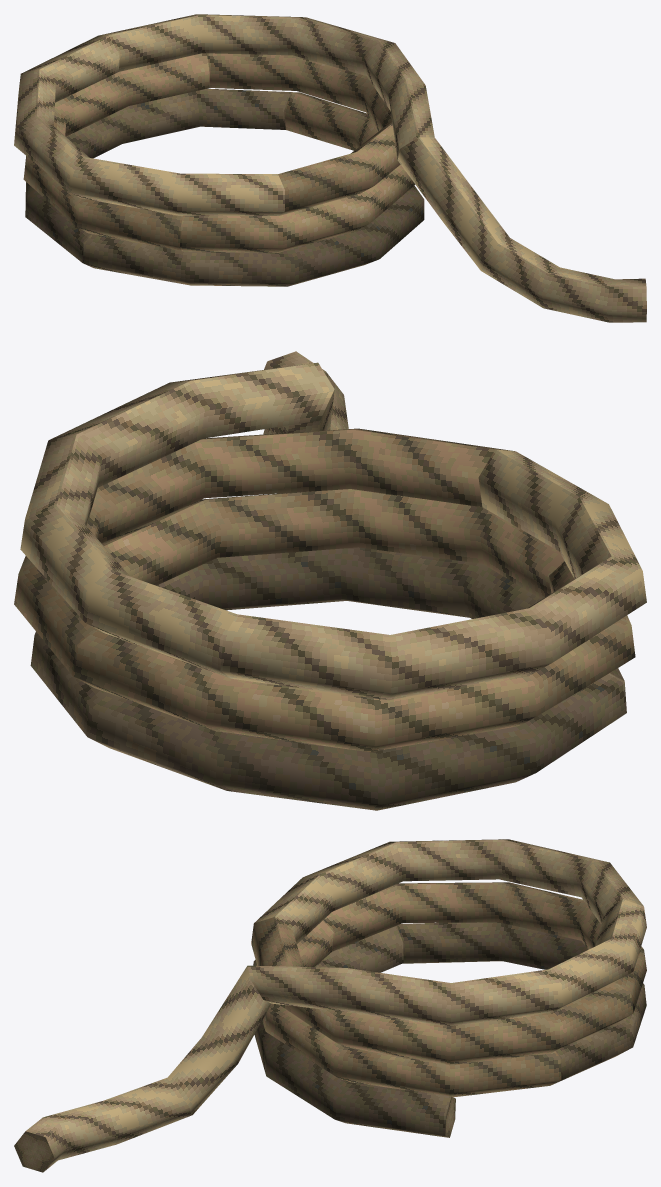
The model's file is rope_coil.glb.
3 renders of one model, top to bottom at view 1: azimuth 30°, elevation 25°; view 2: azimuth 150°, elevation 25°; view 3: azimuth 270°, elevation 25°, orthographic. The views are drawn at different scales.
Visible parts, largest first — view 1: rope_coil; view 2: rope_coil; view 3: rope_coil.
Part boxes in pixels (left/top/right/bottom): rope_coil: left=14, top=14, right=646, bottom=322; rope_coil: left=14, top=351, right=646, bottom=810; rope_coil: left=14, top=839, right=646, bottom=1172.
Size of the model in its own units: 0.757 by 0.2674 by 0.9643.
1 material, 1 textured.
